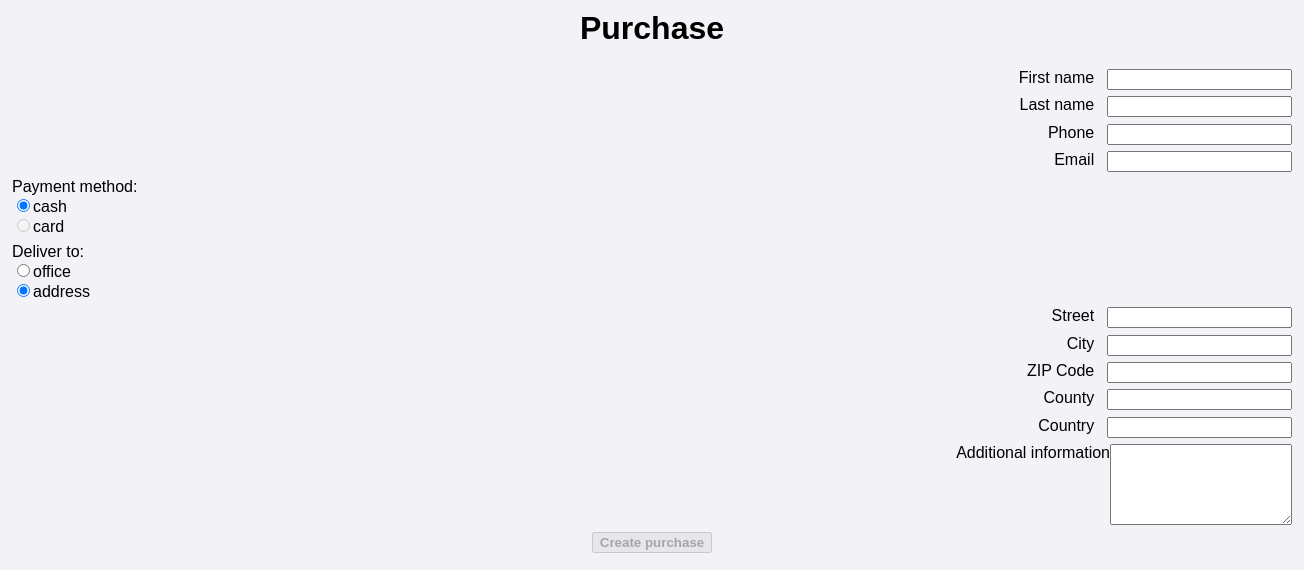
Scenario: renders office form on choice
What coordinates should you click on to do the following:
click the text "office"
I would click on:
 (52, 271)
Its box is [33,263,71,280].
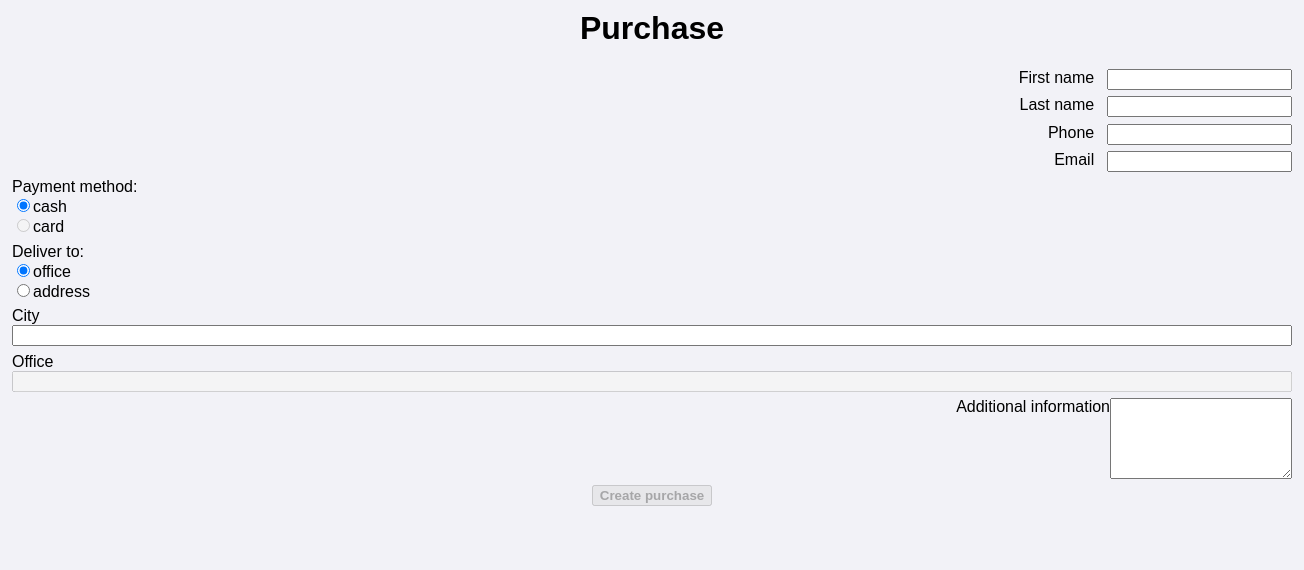
Expected: the text "Office" is shown, [12,353,54,370]
